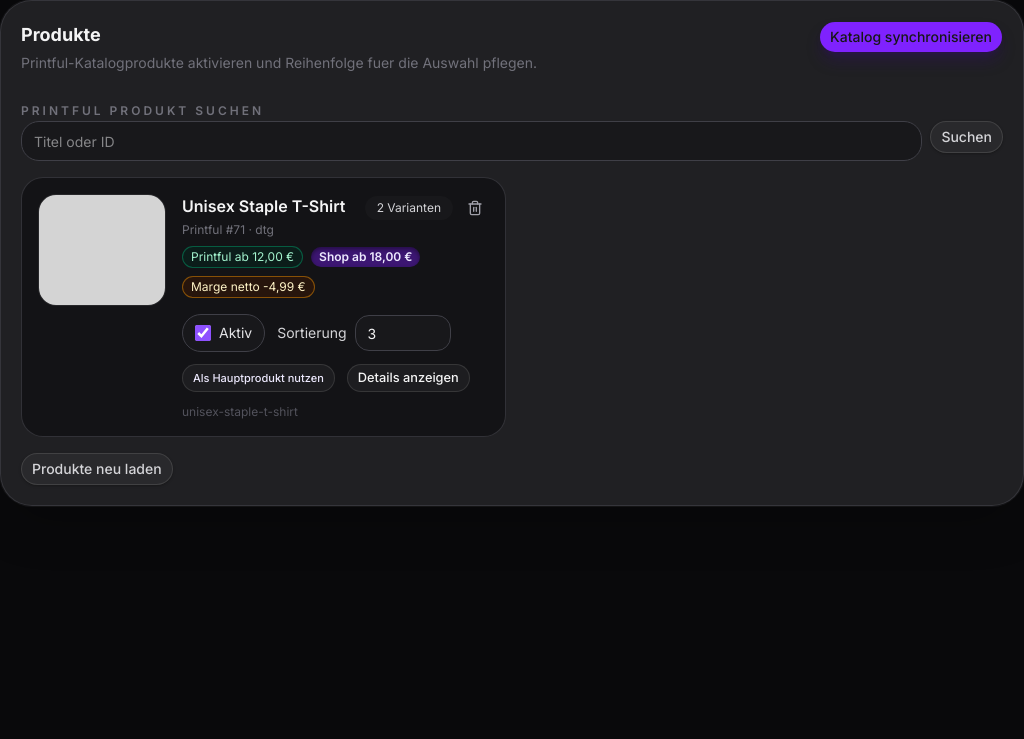
Test: AdminProducts › shows cost, shop price, sizes and materials for integrated products on demand
Check: the heading "Unisex Staple T-Shirt" is shown, box [182,194,346,218]
Check: the text "Printful ab 12,00 €" is shown, box [182,246,303,268]
Click the button with aria-label "Details für Unisex Staple T-Shirt anzeigen" at point(408, 378), box [347,364,470,392]
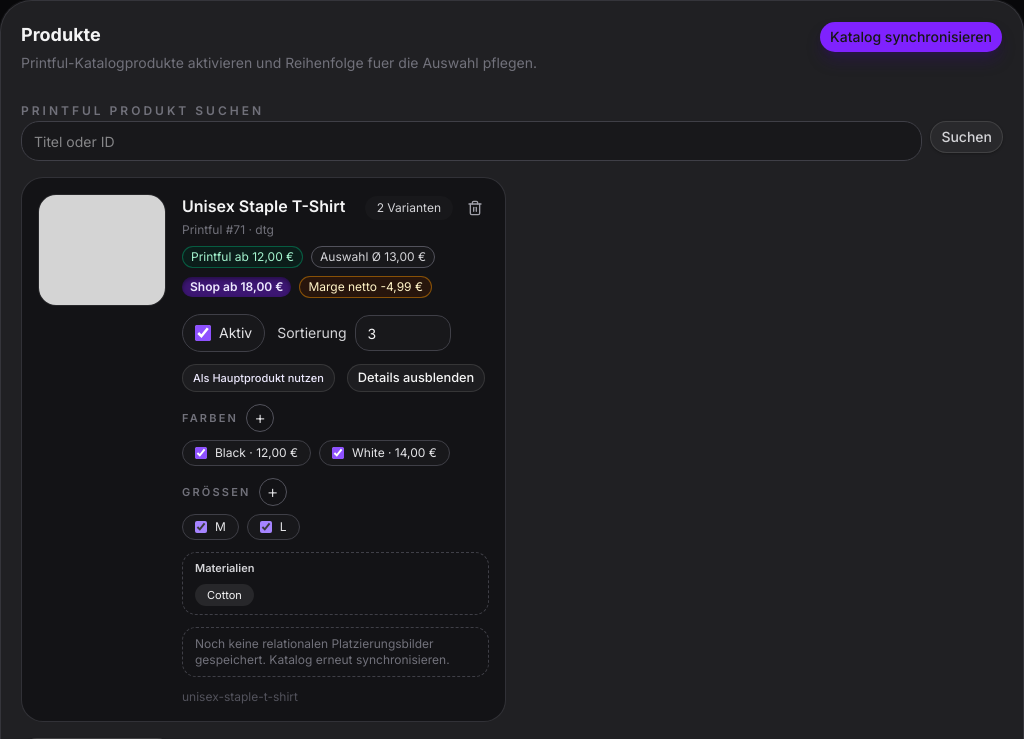
Check: the text "Größen" is shown, box [182,485,251,499]
Check: the text "M" is shown, box [182,514,239,540]
Check: the text "L" is shown, box [247,514,300,540]
